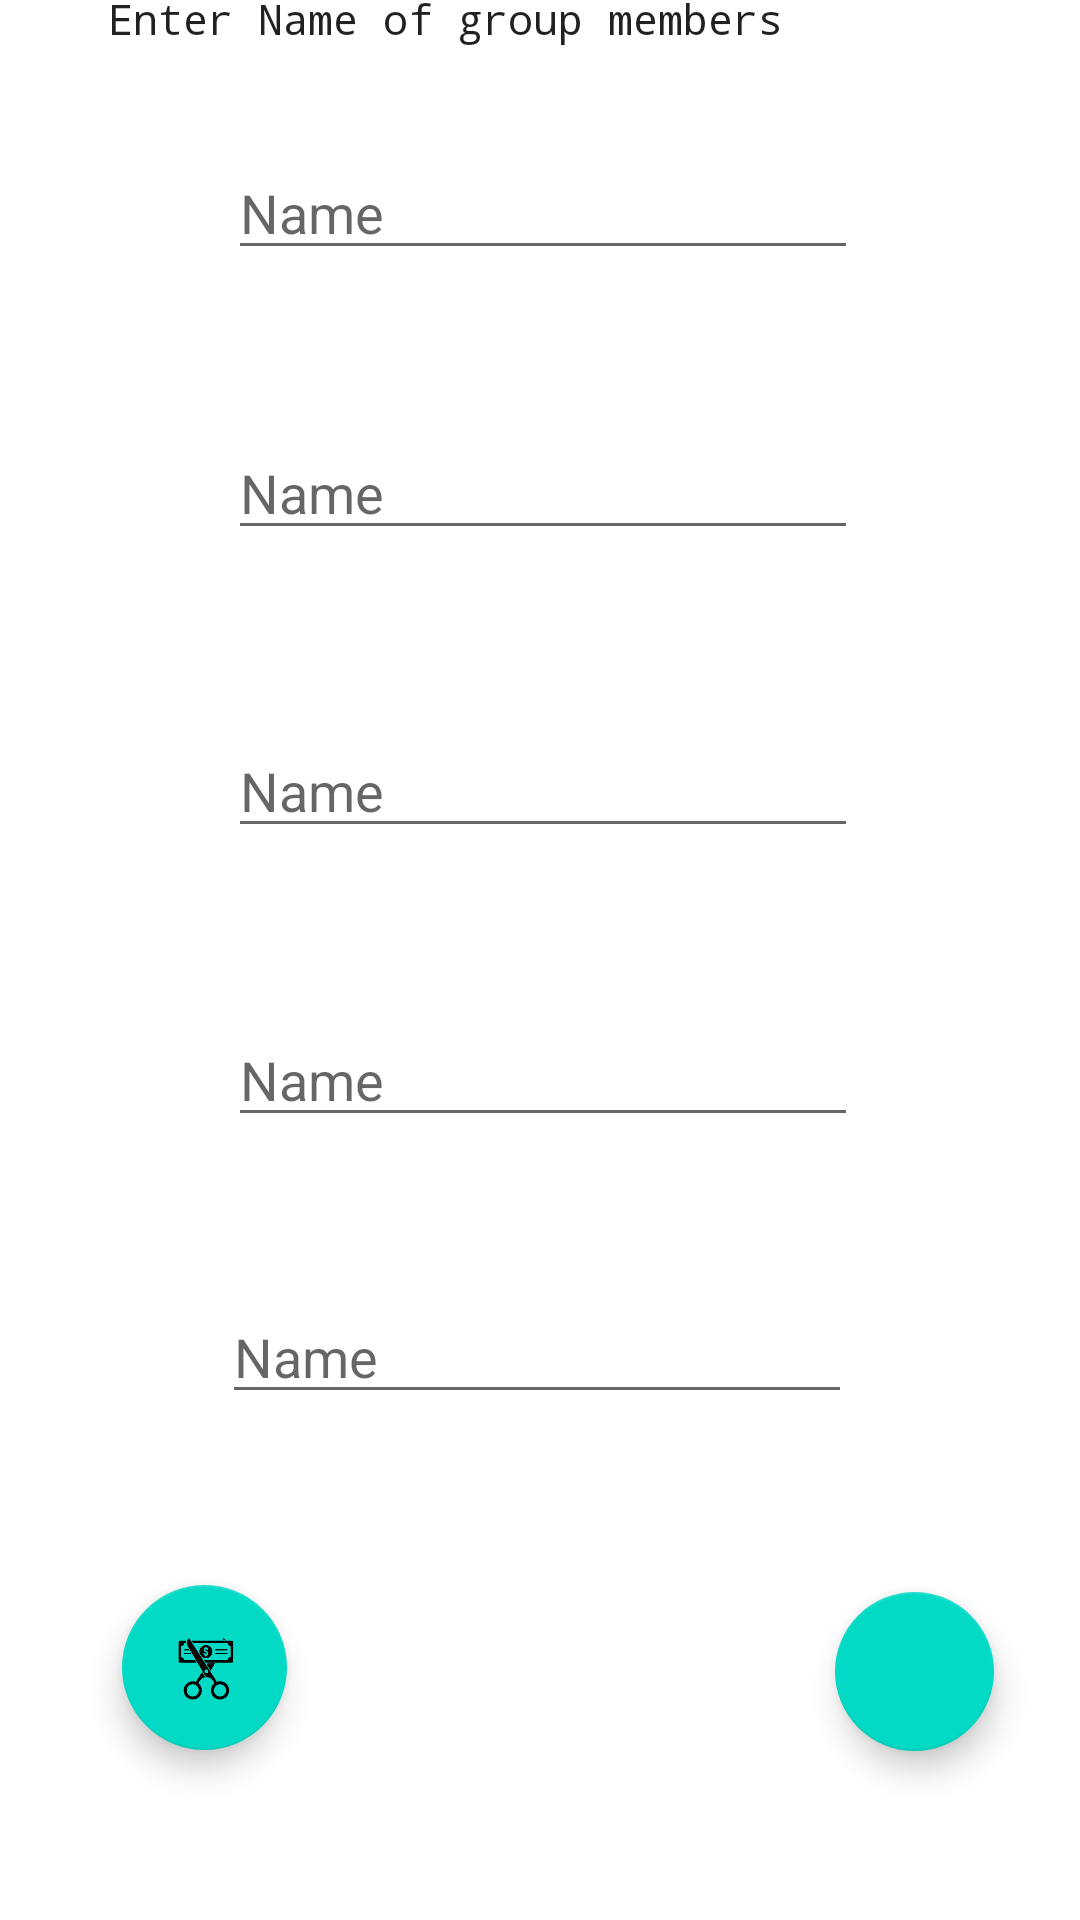

Named icons in this screenshot (1080 × 1920) and their centers, (x,y):
split: (204,1667)
